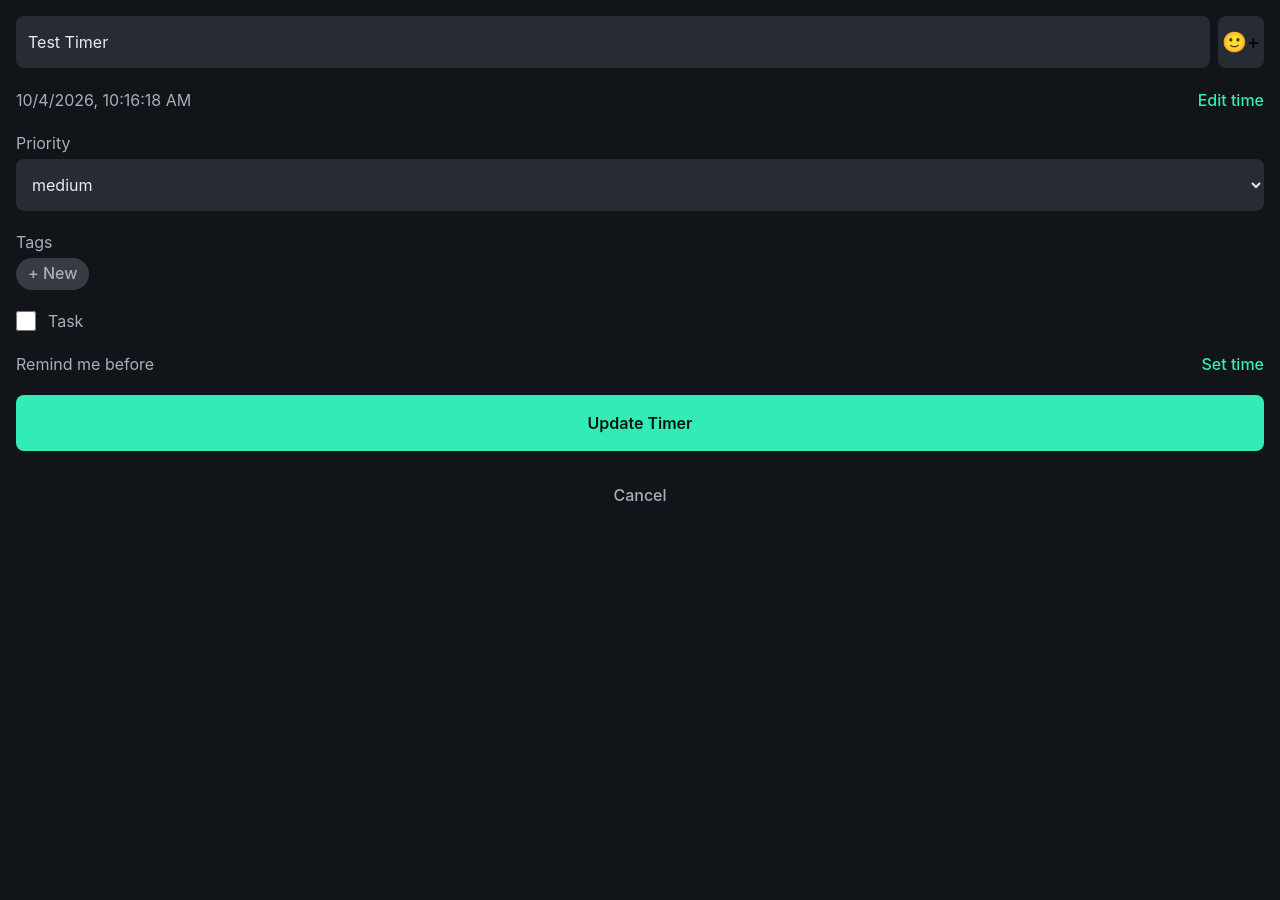
Test: EditTimerView — leadTimeMs › lead time DurationPicker is always shown with dial and slider regardless of remaining time
Click the button "Set time": (1233, 364) [1202, 352, 1264, 375]
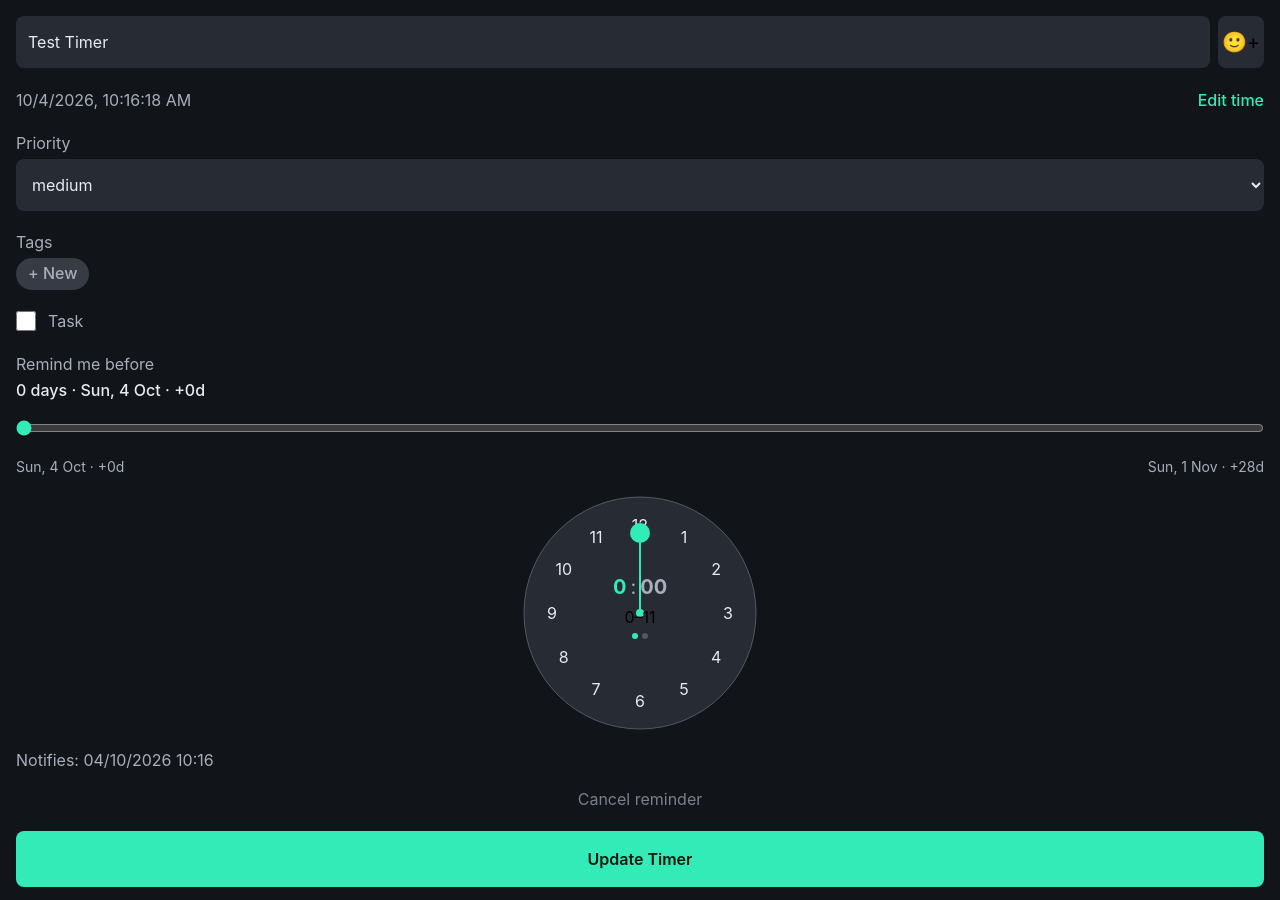
Result: the icon with test id "dial-face" is shown at [520, 493, 760, 733]
Result: the slider named "days" is shown at [16, 420, 1264, 436]
